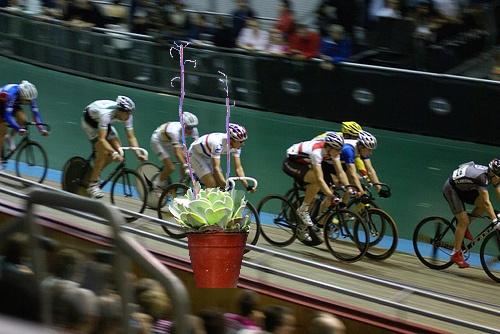tampered: (169, 42, 251, 288)
